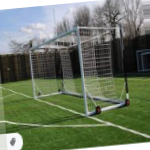goals: (27, 24, 128, 119)
